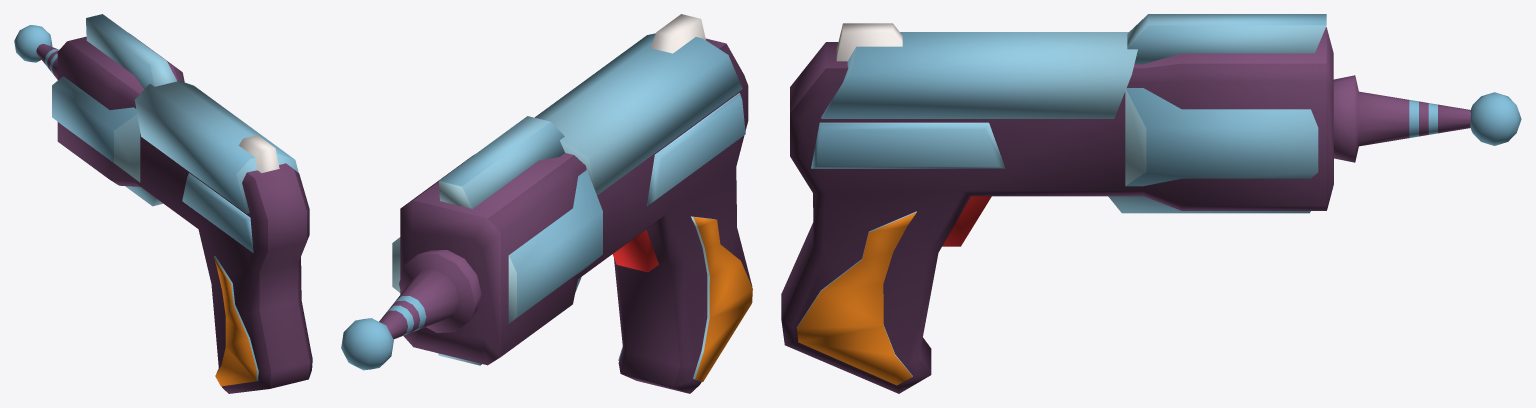
The model's file is Space Gun_new.FBX.
3 views of the same model, side by side, from view 1: azimuth 30°, elevation 25°; view 2: azimuth 150°, elevation 25°; view 3: azimuth 270°, elevation 25° (orthographic). The views are drawn at different scales.
Parts seen in each view (by area): view 1: Space_Gun_01; view 2: Space_Gun_01; view 3: Space_Gun_01.
Part boxes in pixels (left/top/right/bottom): Space_Gun_01: left=14, top=14, right=312, bottom=393; Space_Gun_01: left=341, top=14, right=752, bottom=393; Space_Gun_01: left=781, top=14, right=1521, bottom=393.
Size of the model in its own units: 6.59 by 18.13 by 33.67.
